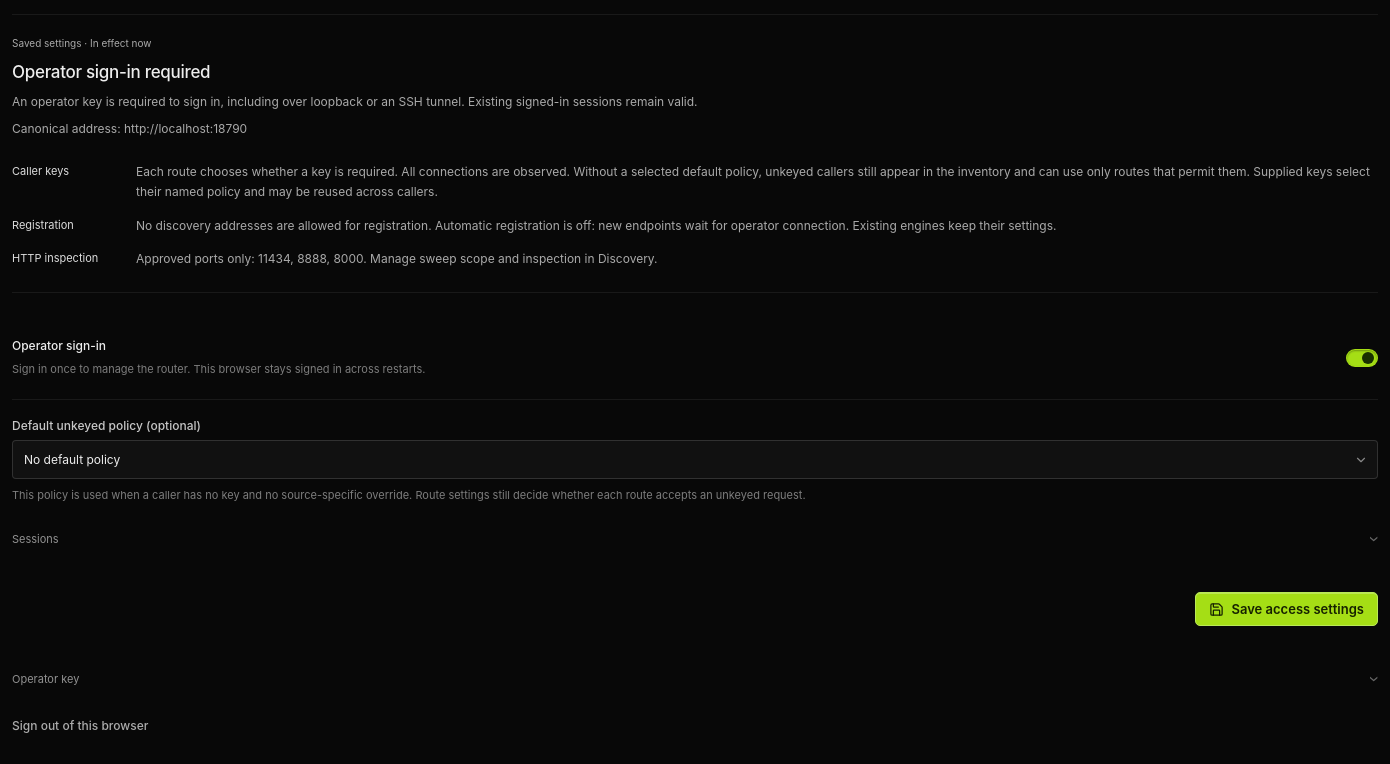
Test: Access settings › changes operator access without inventing a caller policy
The width and height of the screenshot is (1390, 764).
Step 1. Click the switch named "Operator sign-in" → x=1362, y=358, box [1346,349,1378,367]
(page scrolled)
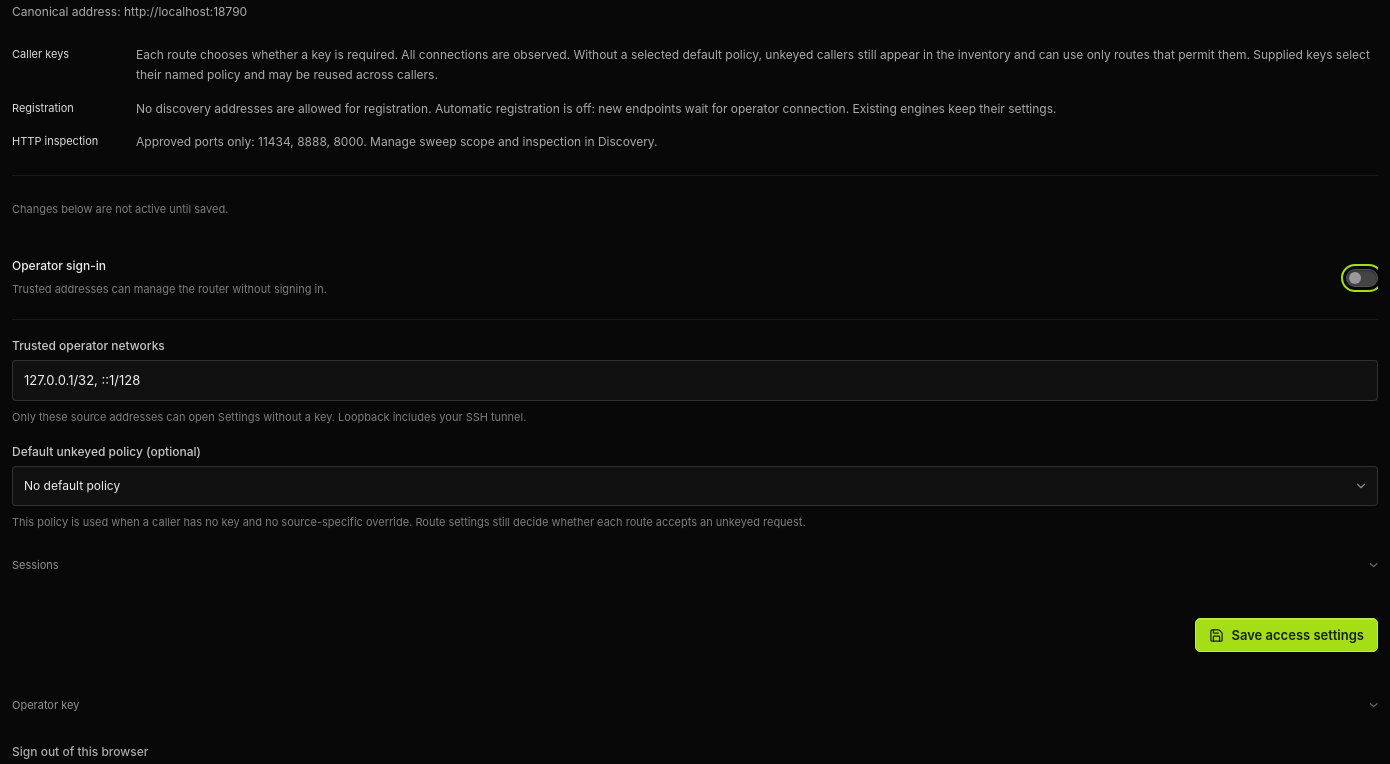
Step 2. Click the button "Save access settings" → x=1286, y=635, box [1194,618,1378,652]
(page scrolled)
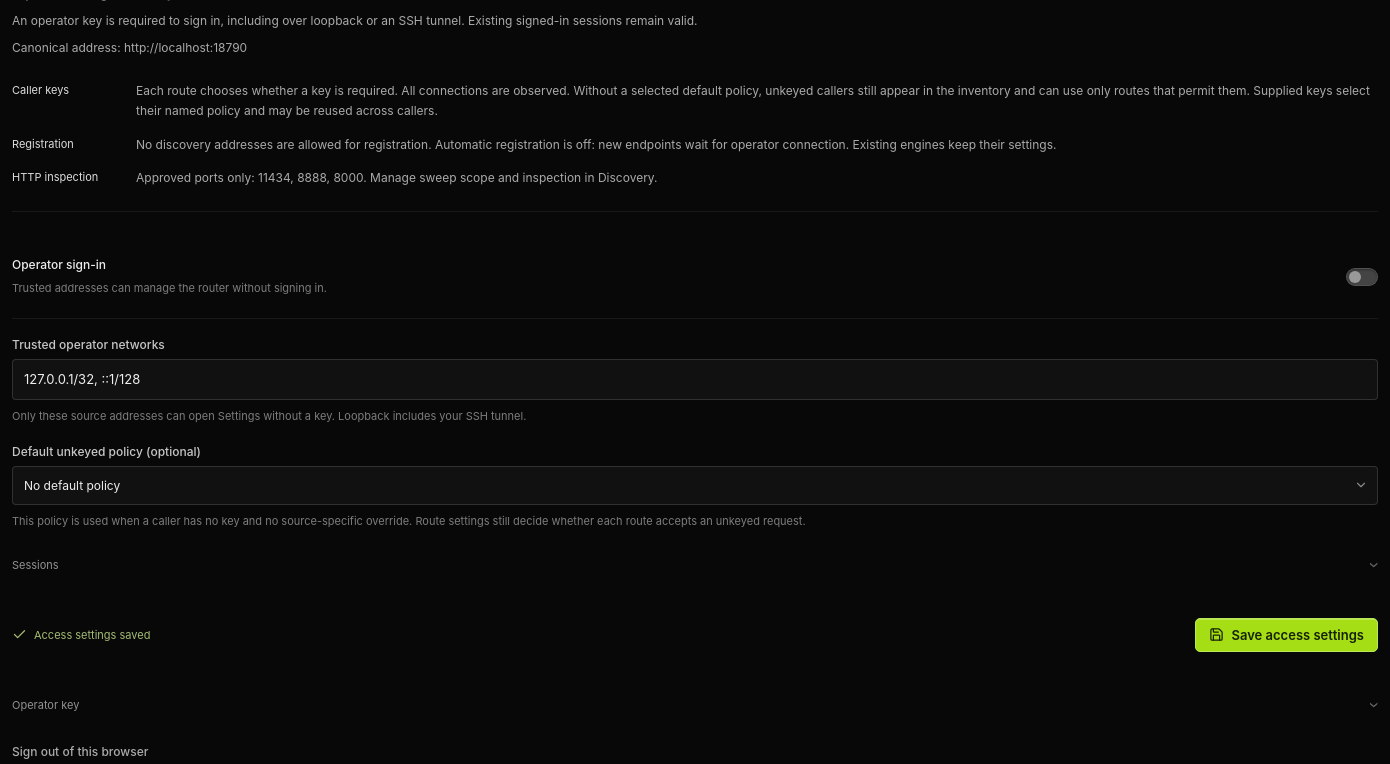
Result: the text "Access settings saved" is shown at [12,627,150,642]
